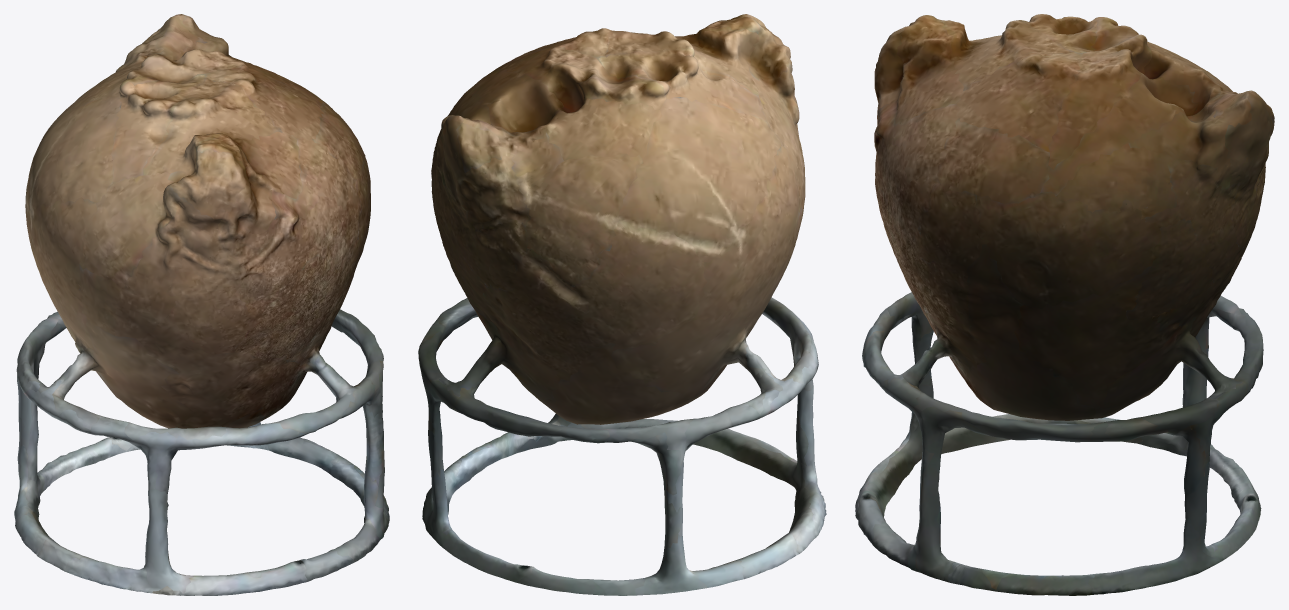
File: vaso_con_mascherone.glb
3 renders of one model, left to right at view 1: azimuth 30°, elevation 25°; view 2: azimuth 150°, elevation 25°; view 3: azimuth 270°, elevation 25°, orthographic. The views are drawn at different scales.
Parts seen in each view (by area): view 1: Node1; view 2: Node1; view 3: Node1.
Boxes of the visible parts, bbox=[...] form: Node1: bbox=[14, 14, 389, 595]; Node1: bbox=[418, 14, 826, 595]; Node1: bbox=[855, 14, 1274, 595].
Bounding box in the file's own units: 0.4022 × 0.5143 × 0.414.
1 material, 1 textured.
